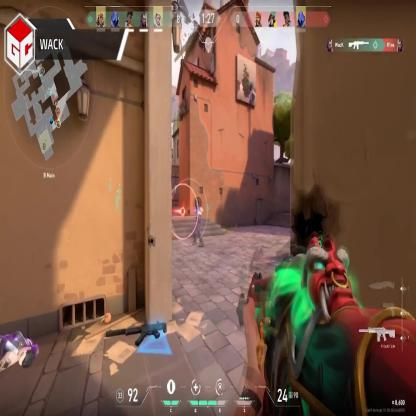enemy: (194, 198, 204, 247)
enemy_head: (196, 197, 200, 208)
